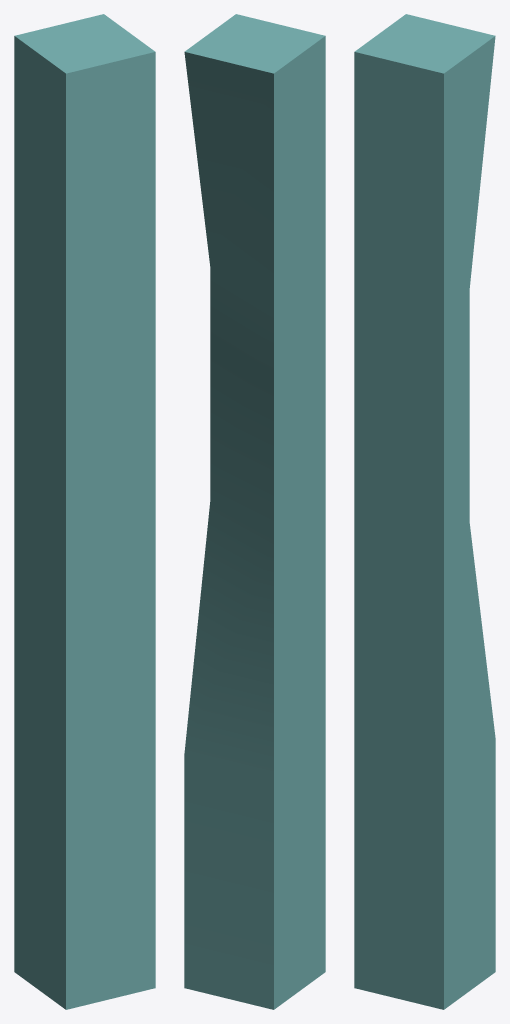
The model's file is column_side_deco.fbx.
3 views of the same model, side by side, from view 1: azimuth 30°, elevation 25°; view 2: azimuth 150°, elevation 25°; view 3: azimuth 330°, elevation 25° (orthographic).
Parts seen in each view (by area): view 1: column_side_deco; view 2: column_side_deco; view 3: column_side_deco.
Boxes of the visible parts, x1,y1,x2,y2 form: column_side_deco: (14, 14, 155, 1009); column_side_deco: (184, 14, 325, 1009); column_side_deco: (354, 14, 495, 1009).
Size of the model in its own units: 10 by 100 by 10.
